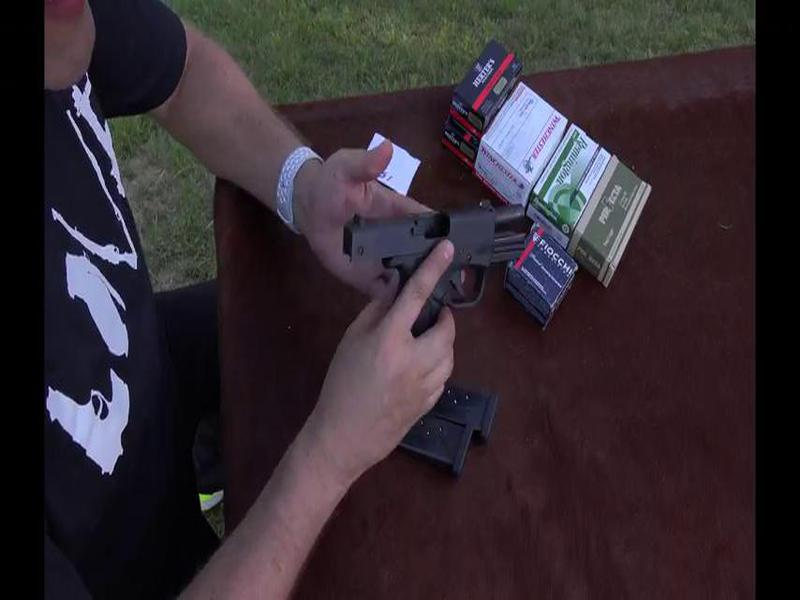Pistola: (329, 201, 545, 364)
